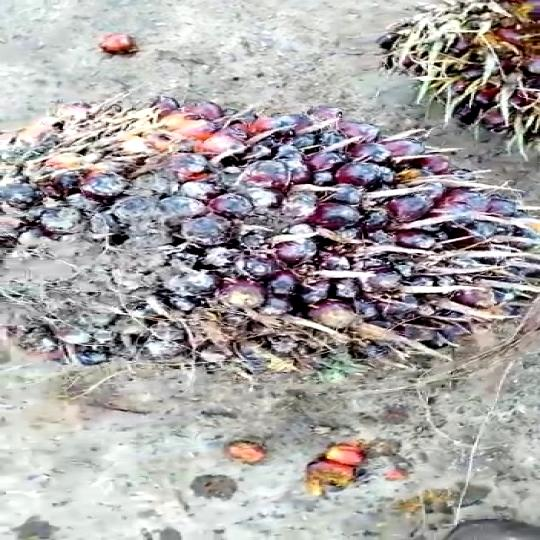mentah: (4, 93, 540, 384)
